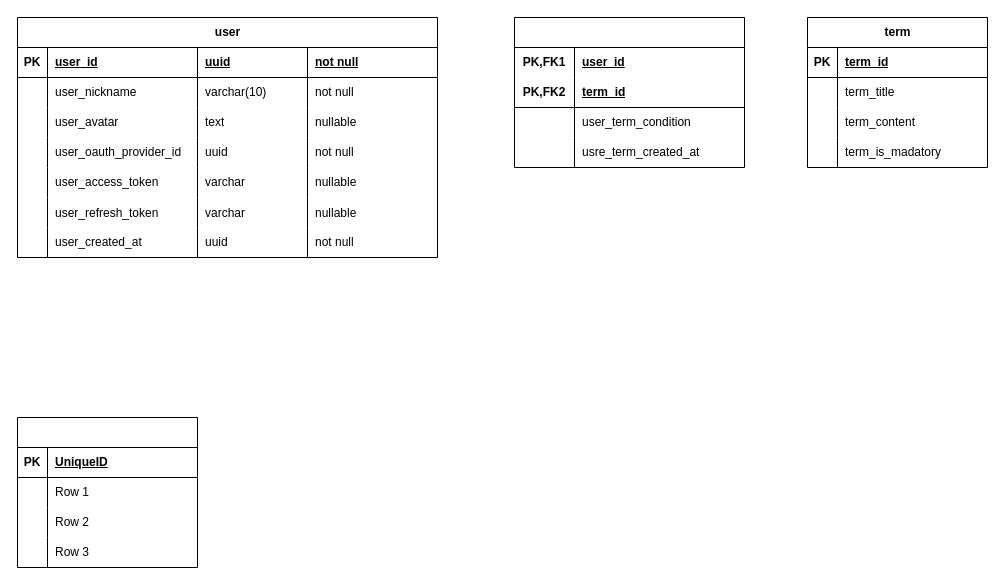
This 1005x585 diagram has some shape labels left out. Here are the shapes that lost their labels. From the top down, the box of each, then its label:
(514, 16, 744, 168): user_term_map
(16, 416, 198, 568): Table
